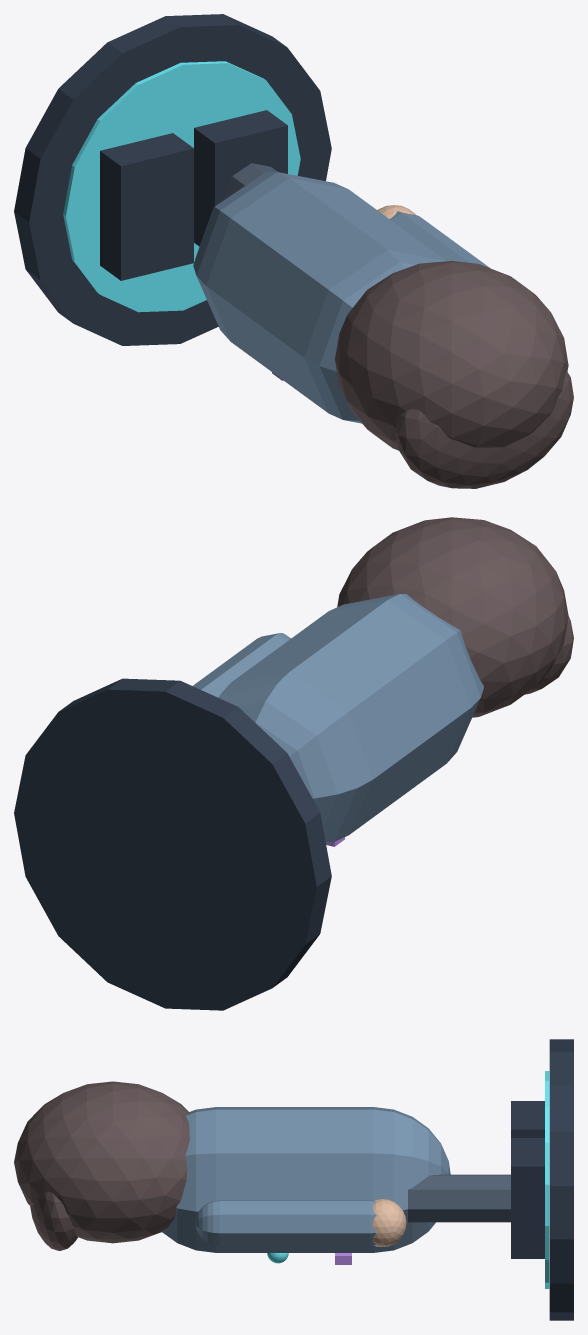
File: cybershield_human_woman.glb
3 renders of one model, top to bottom at view 1: azimuth 30°, elevation 25°; view 2: azimuth 150°, elevation 25°; view 3: azimuth 270°, elevation 25°, orthographic. The views are drawn at different scales.
Visible parts, largest first — view 1: hair_back, torso, stable_base, base_glow, left_shoe, hair_top, right_shoe, arm, leg; view 2: stable_base, torso, hair_back, arm, hair_top; view 3: torso, hair_back, arm, stable_base, leg, right_shoe, hair_top, hand, left_shoe, base_glow.
Boxes of the visible parts, box(x1,y1,x2,y2) form: hair_back: box(335, 261, 568, 450); torso: box(193, 172, 446, 423); stable_base: box(14, 14, 331, 345); base_glow: box(63, 61, 300, 312); left_shoe: box(100, 133, 193, 280); hair_top: box(395, 371, 573, 488); right_shoe: box(194, 110, 287, 246); arm: box(390, 211, 490, 268); leg: box(224, 163, 277, 199); stable_base: box(14, 678, 331, 1010); torso: box(219, 594, 483, 843); hair_back: box(337, 517, 568, 717); arm: box(193, 633, 290, 697); hair_top: box(525, 616, 573, 694); torso: box(162, 1107, 450, 1252); hair_back: box(14, 1081, 189, 1243); arm: box(195, 1200, 376, 1245); stable_base: box(549, 1039, 573, 1320); leg: box(408, 1174, 510, 1222); right_shoe: box(511, 1138, 544, 1258); hair_top: box(30, 1191, 77, 1250); hand: box(372, 1199, 406, 1246); left_shoe: box(511, 1101, 544, 1137); base_glow: box(545, 1071, 549, 1288).
Bounding box in the file's own units: 1.16 × 1.16 × 2.31.
